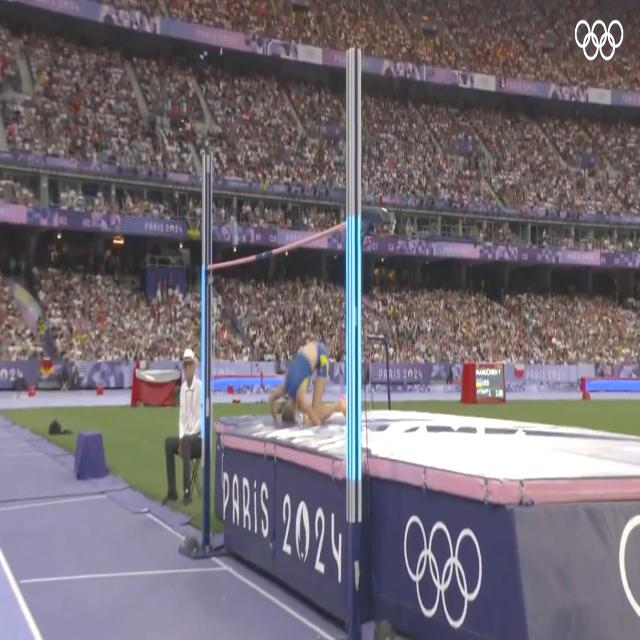land: (268, 338, 346, 428)
